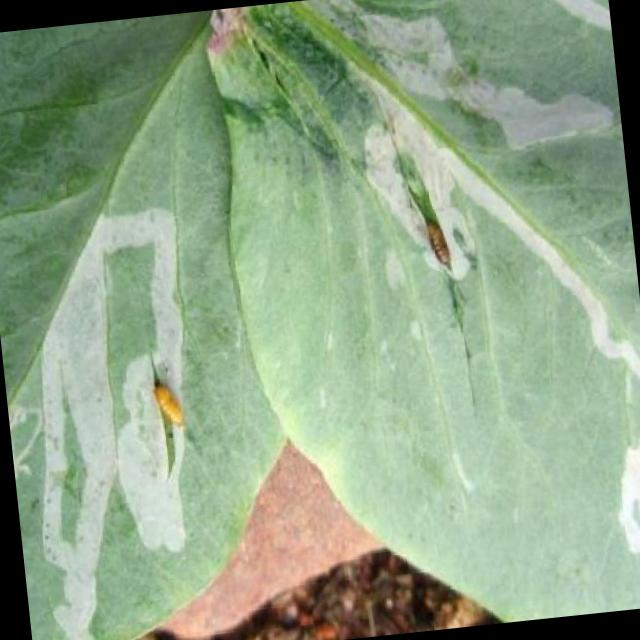whorl-maggot: (140, 368, 196, 444), (414, 205, 460, 278)
